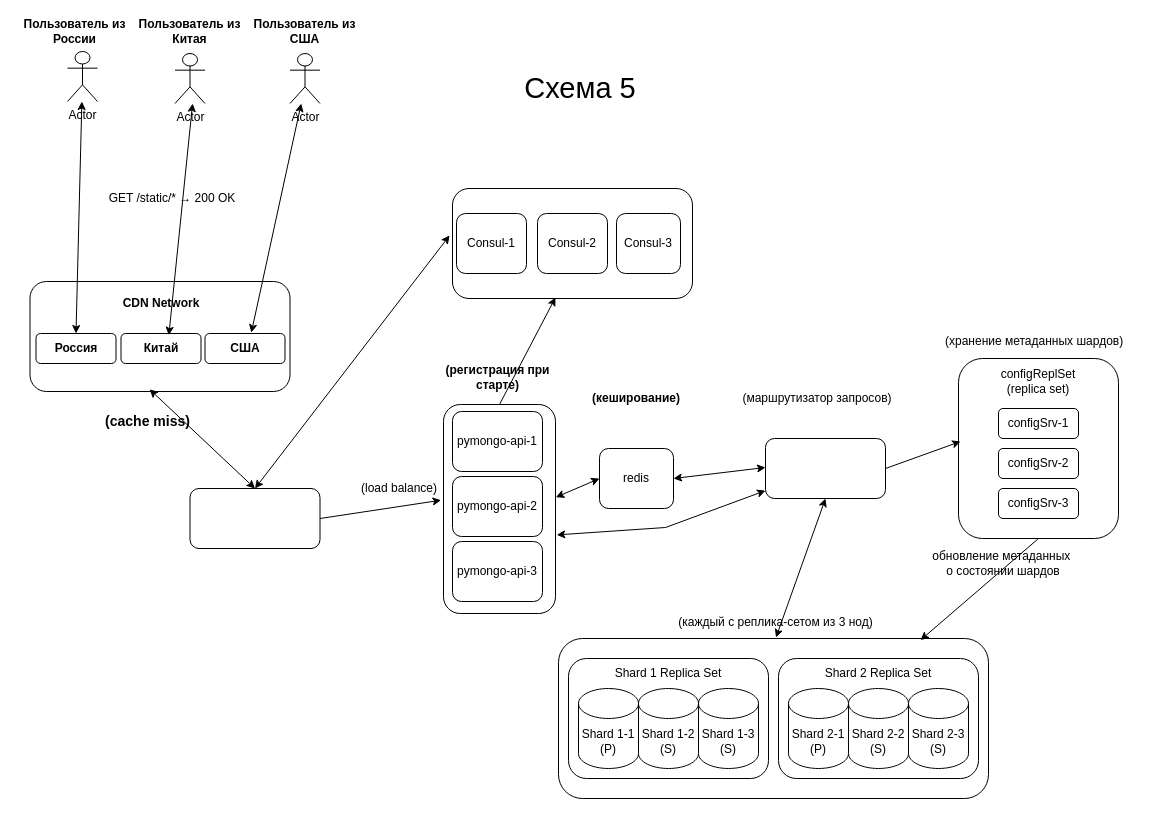
Some shapes in this 1150 by 816 pixel diagram are drawn without their labels. Each missing label, with the centre of its shape:
"API Gateway (Traefik)" belongs at [254,518].
"mongos-router" belongs at [825,468].
